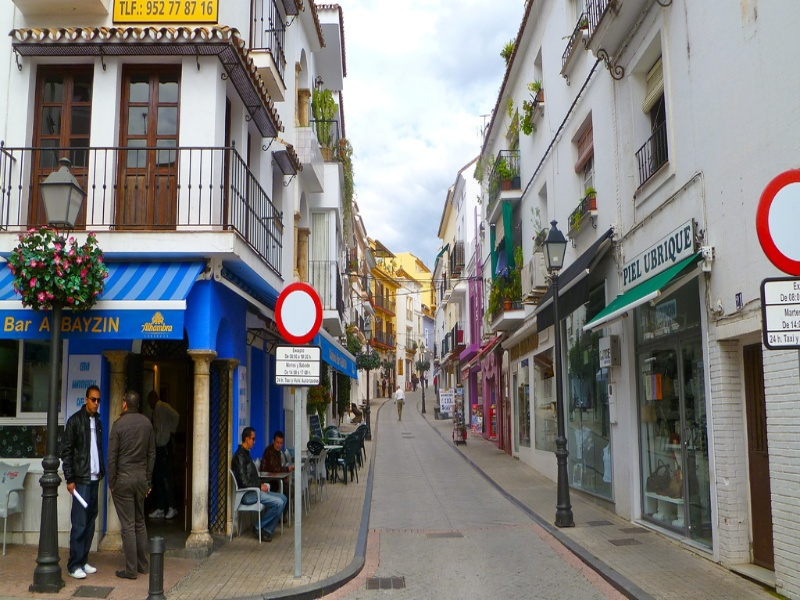no_vehicle: (275, 281, 326, 346)
